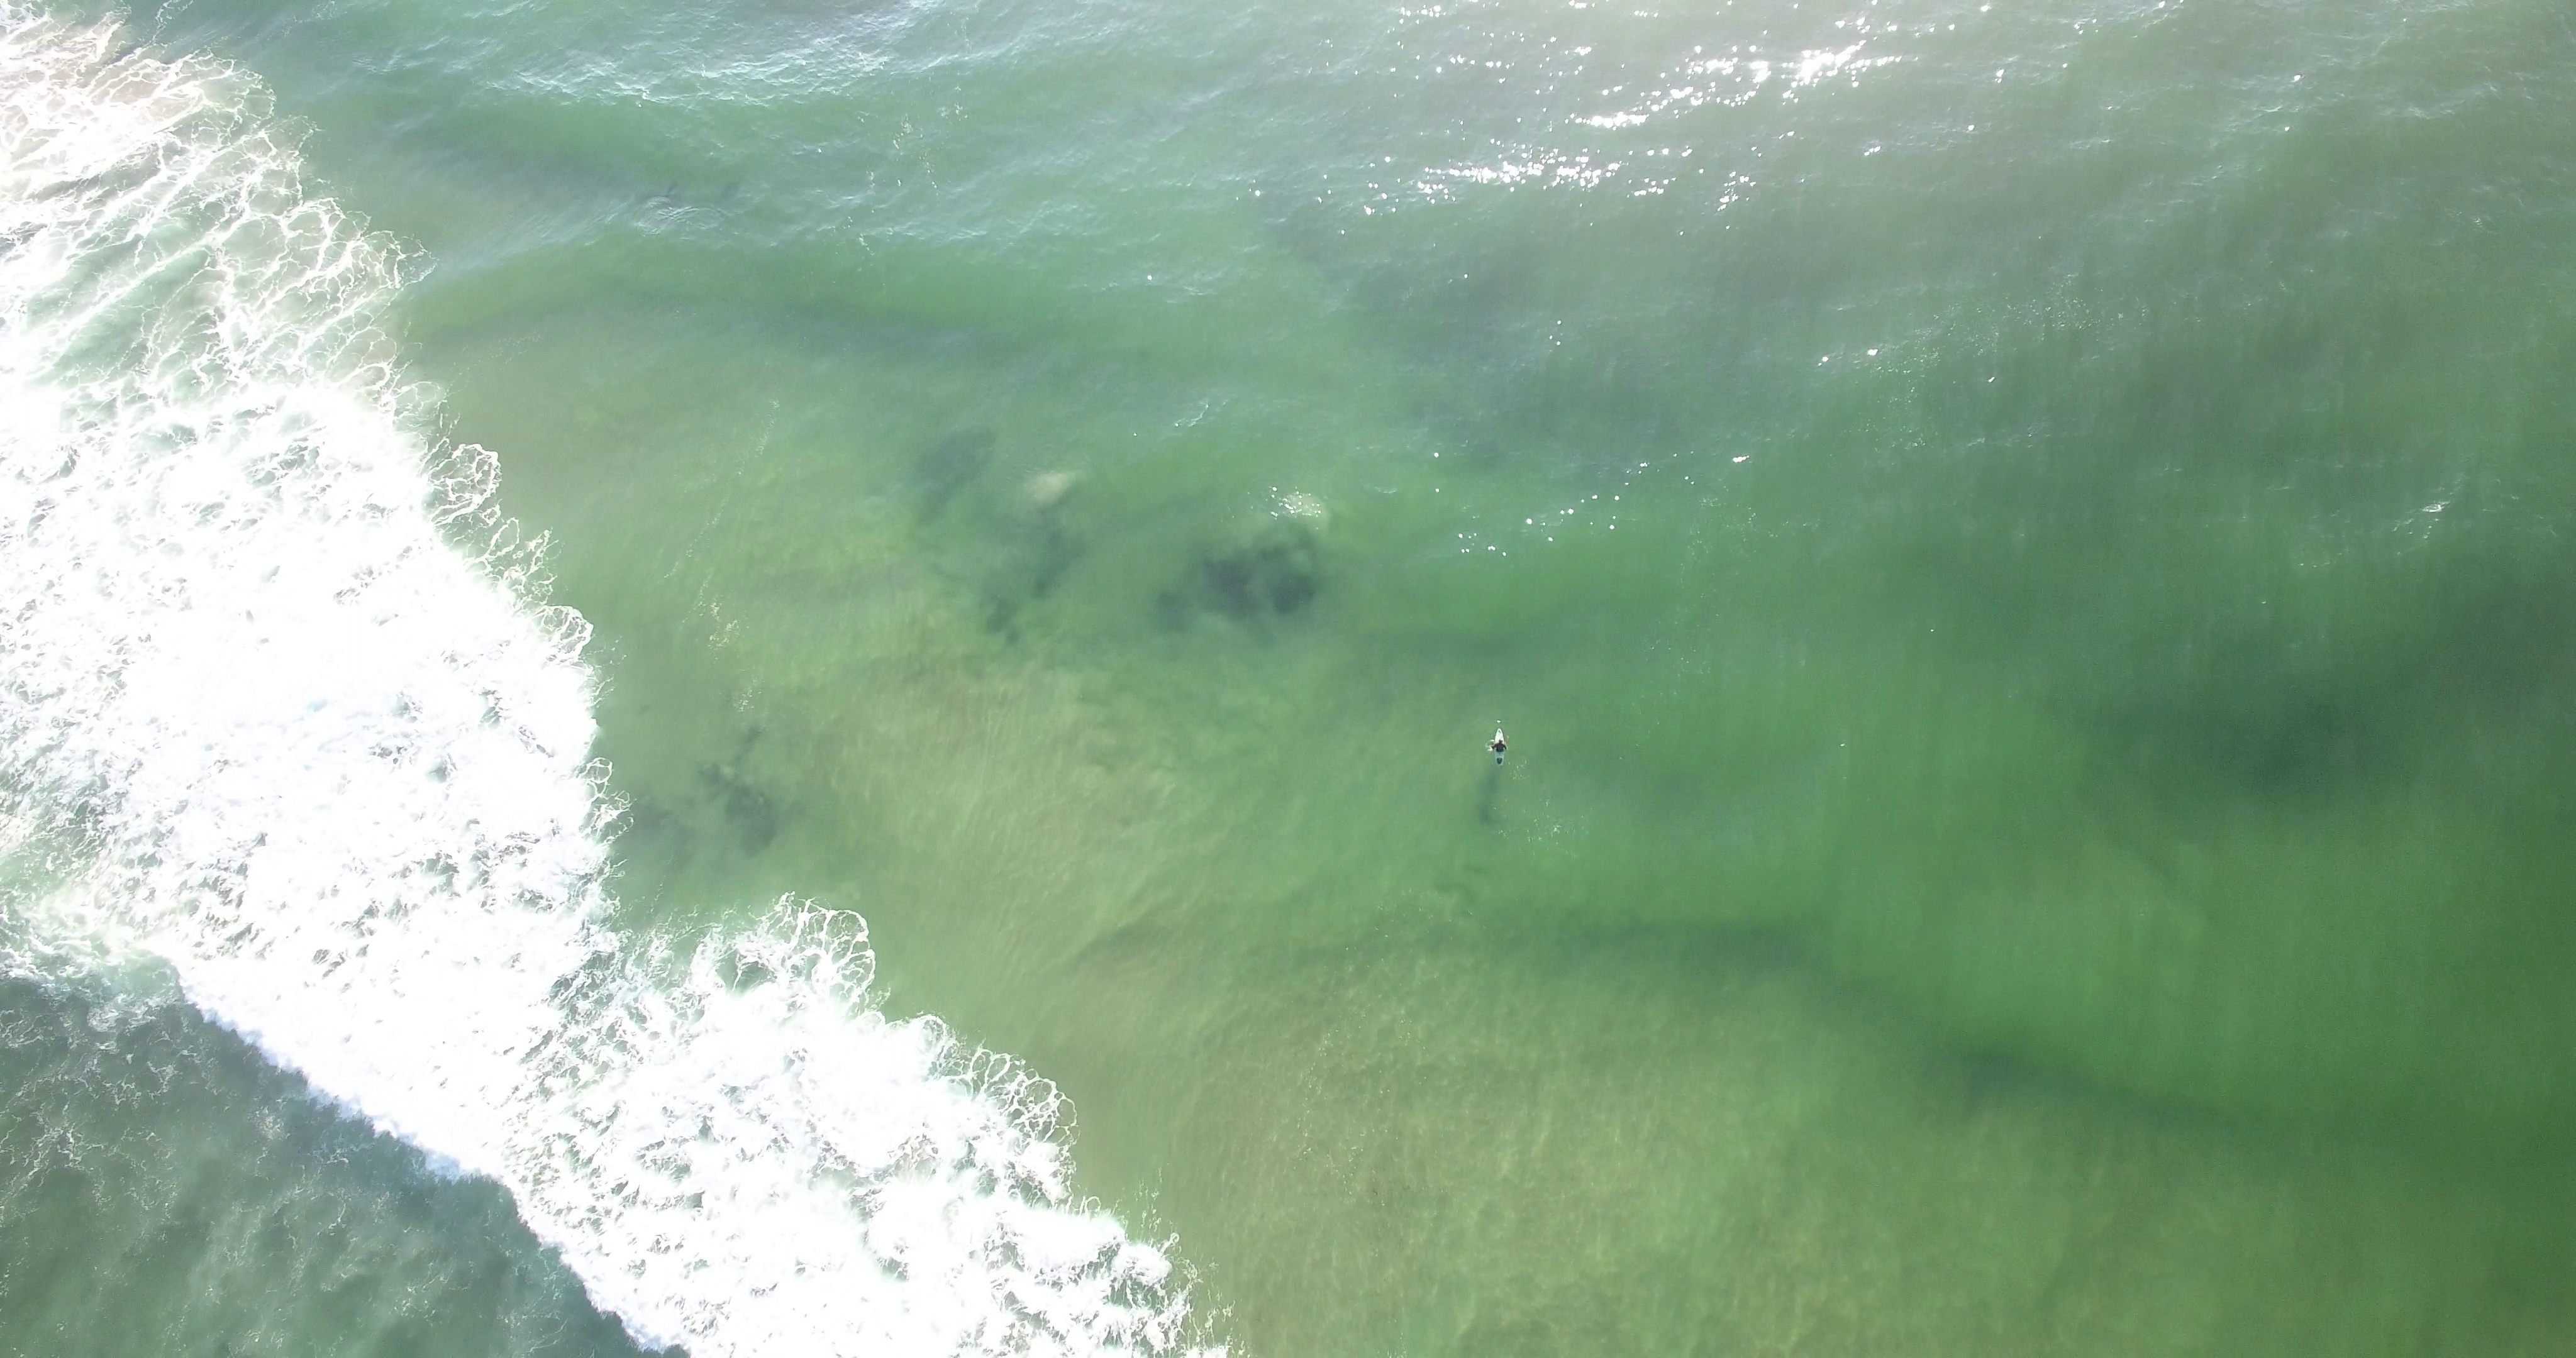surfer: (1489, 724, 1508, 772)
